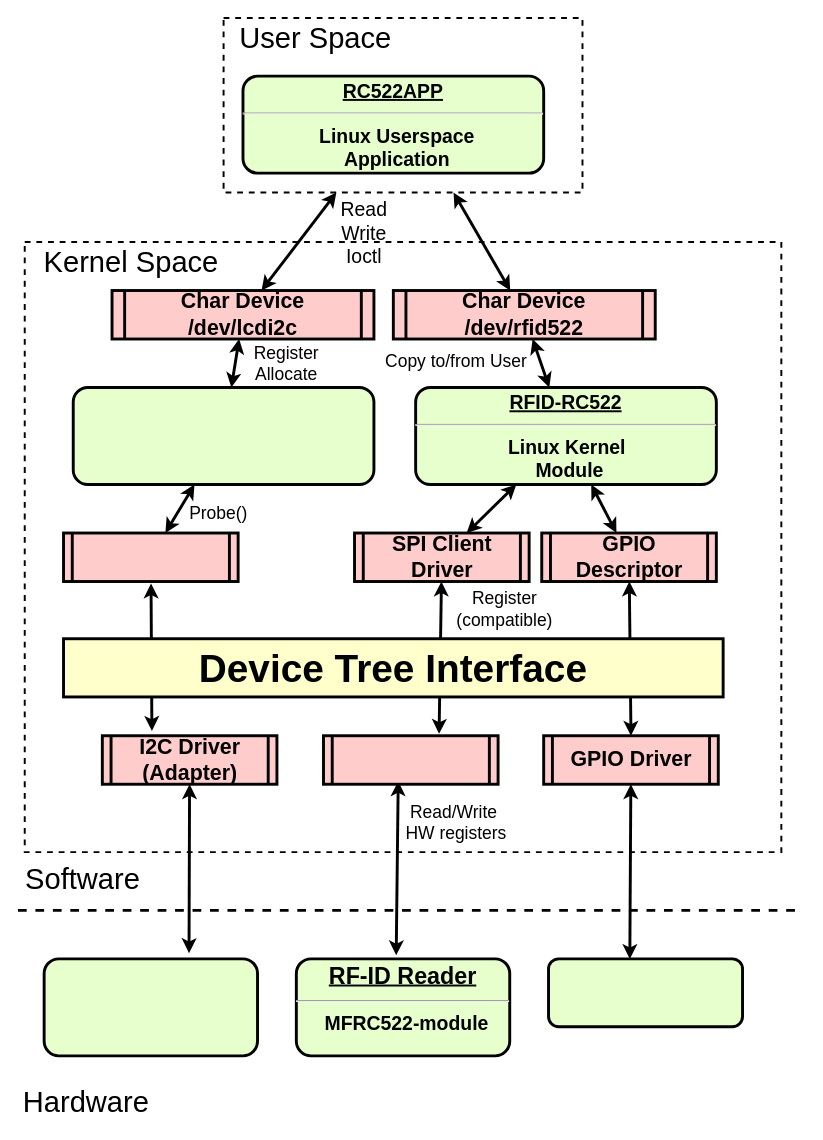
This 823x1140 diagram has some shape labels left out. The box of each missing label's shape, as (x1, y1, x2, y2) in pixels:
Buzzer module: (547, 957, 744, 1028)
I2C Client Driver: (62, 531, 239, 582)
LCD Display HD44780U: (42, 957, 259, 1057)
LCDI2C Linux Kernel Module: (71, 386, 375, 485)
SPI Driver (Master): (322, 734, 499, 785)
